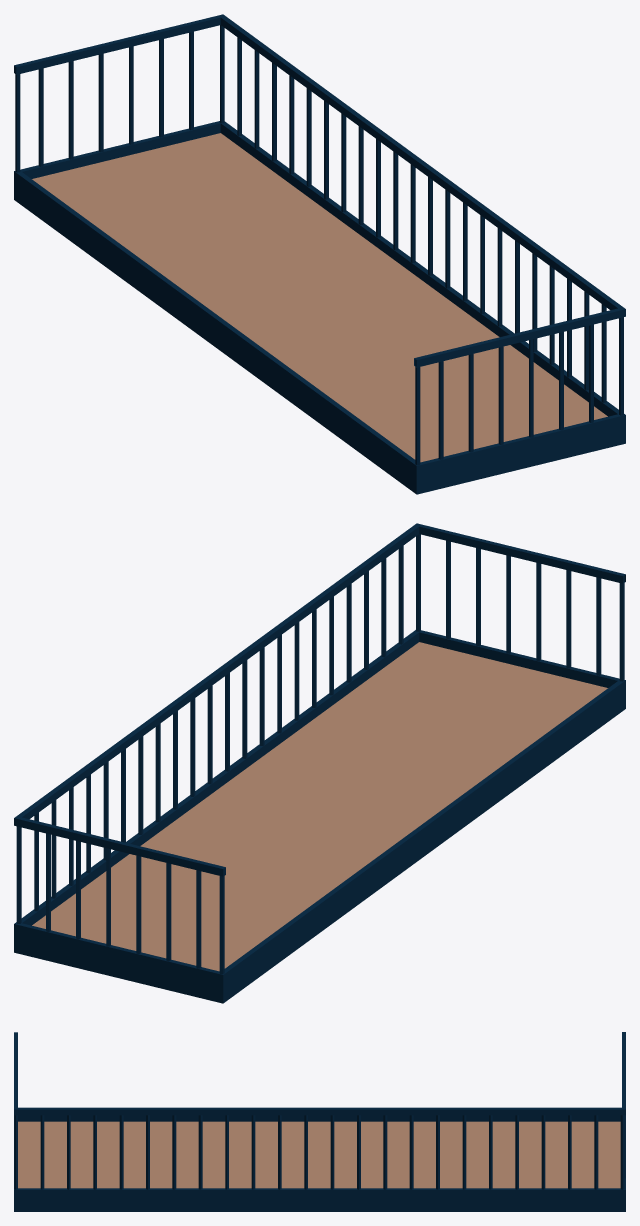
File: O_Environment_Balcony.fbx
The picture shows the model from 3 angles, top to bottom: view 1: azimuth 30°, elevation 25°; view 2: azimuth 150°, elevation 25°; view 3: azimuth 270°, elevation 25°; orthographic projection. The views are drawn at different scales.
Visible parts, largest first — view 1: polySurface5; view 2: polySurface5; view 3: polySurface5.
Boxes of the visible parts, x1,y1,x2,y2 form: polySurface5: [14, 14, 625, 494]; polySurface5: [14, 523, 625, 1003]; polySurface5: [14, 1032, 625, 1211].
Bounding box in the file's own units: 2.09 × 1.28 × 6.96.
